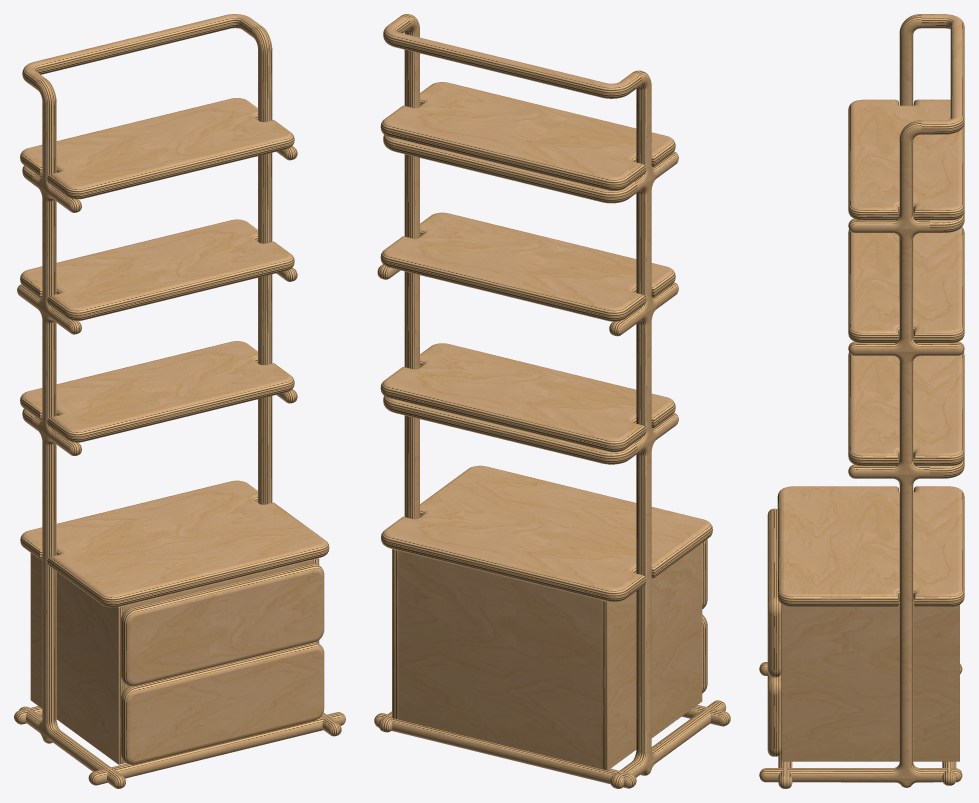
Rendered from tower.glb.
3 renders of one model, left to right at view 1: azimuth 30°, elevation 25°; view 2: azimuth 150°, elevation 25°; view 3: azimuth 270°, elevation 25°, orthographic. The views are drawn at different scales.
Visible parts, largest first — view 1: Tower: cabinet_top, Tower: drawer_front_2, Tower: drawer_front_1, Tower: shelf_2, Tower: shelf_1, Tower: shelf_3, Tower: upright_L, Tower: cabinet_side_L, Tower: upright_R, Tower: base_front_rail, Tower: top_rail_upper, Tower: top_rail_lower (+1 smaller); view 2: Tower: cabinet_back, Tower: cabinet_top, Tower: shelf_2, Tower: shelf_1, Tower: shelf_3, Tower: cabinet_side_L, Tower: upright_L, Tower: upright_R, Tower: top_rail_upper, Tower: base_back_rail, Tower: wall_strip_3_upper, Tower: wall_strip_1_upper (+4 smaller); view 3: Tower: cabinet_side_R, Tower: cabinet_top, Tower: upright_R, Tower: shelf_3, Tower: shelf_2, Tower: shelf_1, Tower: top_rail_upper, Tower: drawer_front_2, Tower: upright_L, Tower: drawer_front_1, Tower: base_front_rail.
Part boxes in pixels (x1,y1,x2,y2): Tower: cabinet_top: (20,480,329,607); Tower: drawer_front_2: (121,563,324,686); Tower: drawer_front_1: (121,642,324,764); Tower: shelf_2: (20,219,294,320); Tower: shelf_1: (20,341,294,442); Tower: shelf_3: (20,98,294,199); Tower: upright_L: (17,78,125,788); Tower: cabinet_side_L: (30,553,124,764); Tower: upright_R: (245,25,341,736); Tower: base_front_rail: (88,712,345,785); Tower: top_rail_upper: (22,14,260,85); Tower: top_rail_lower: (22,24,245,84); Tower: cabinet_back: (398,550,601,768); Tower: cabinet_top: (381,465,712,601); Tower: shelf_2: (380,212,675,321); Tower: shelf_1: (380,343,675,452); Tower: shelf_3: (380,82,675,190); Tower: cabinet_side_L: (601,543,702,770); Tower: upright_L: (609,70,726,788); Tower: upright_R: (377,14,419,732); Tower: top_rail_upper: (383,16,642,94); Tower: base_back_rail: (374,713,636,788); Tower: wall_strip_3_upper: (383,134,637,198); Tower: wall_strip_1_upper: (383,396,637,459); Tower: cabinet_side_R: (781,601,959,761); Tower: cabinet_top: (777,486,964,606); Tower: upright_R: (759,120,964,787); Tower: shelf_3: (848,99,964,220); Tower: shelf_2: (848,227,964,343); Tower: shelf_1: (848,352,964,465); Tower: top_rail_upper: (921,14,964,130); Tower: drawer_front_2: (767,508,781,677); Tower: upright_L: (759,14,962,675); Tower: drawer_front_1: (767,672,781,756); Tower: base_front_rail: (778,751,792,788).
Size of the model in its own units: 0.7801 by 1.93 by 0.5382.
2 materials, 2 textured.
